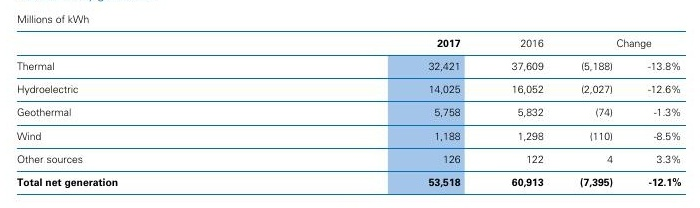table: (0, 0, 700, 208)
